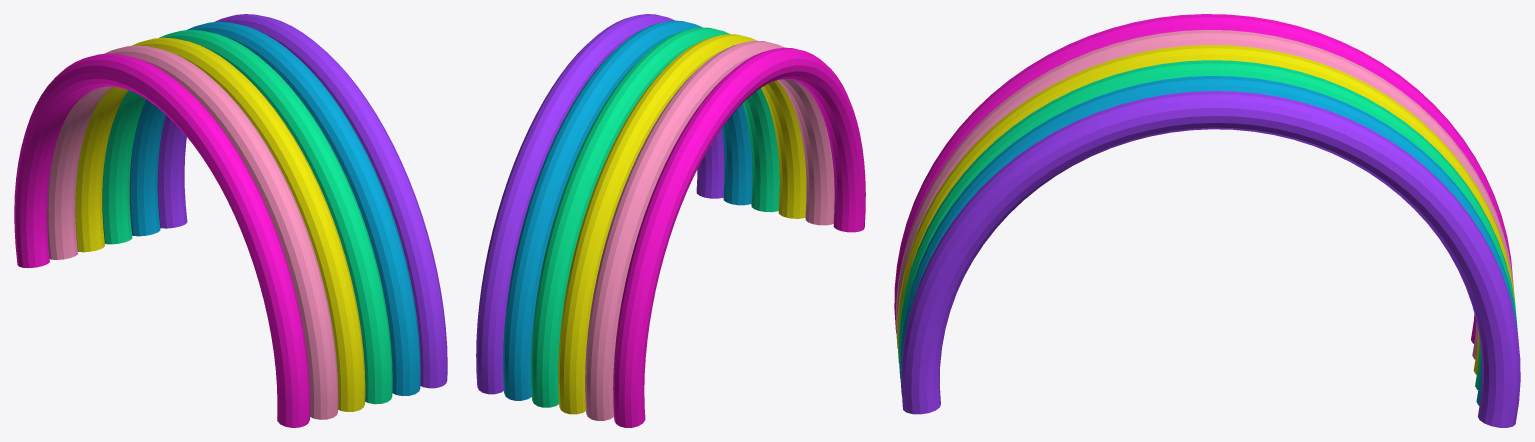
Rendered from HandRainbowy.gltf.
The picture shows the model from 3 angles, left to right: view 1: azimuth 30°, elevation 25°; view 2: azimuth 150°, elevation 25°; view 3: azimuth 270°, elevation 25°; orthographic projection. The views are drawn at different scales.
Visible parts, largest first — view 1: Torus, Torus 2, Torus 3, Torus 4, Torus 5, Torus 6; view 2: Torus, Torus 2, Torus 3, Torus 4, Torus 5, Torus 6; view 3: Torus 6, Torus, Torus 4, Torus 3, Torus 5, Torus 2.
Boxes of the visible parts, x1=… form: Torus: x1=14, y1=53, x2=309, y2=427; Torus 2: x1=47, y1=45, x2=338, y2=419; Torus 3: x1=75, y1=37, x2=365, y2=411; Torus 4: x1=102, y1=30, x2=392, y2=404; Torus 5: x1=129, y1=21, x2=420, y2=395; Torus 6: x1=157, y1=14, x2=447, y2=388; Torus: x1=613, y1=47, x2=865, y2=427; Torus 2: x1=585, y1=40, x2=834, y2=420; Torus 3: x1=558, y1=34, x2=806, y2=414; Torus 4: x1=531, y1=27, x2=779, y2=407; Torus 5: x1=503, y1=20, x2=752, y2=400; Torus 6: x1=476, y1=14, x2=724, y2=394; Torus 6: x1=901, y1=91, x2=1520, y2=427; Torus: x1=894, y1=14, x2=1512, y2=343; Torus 4: x1=898, y1=60, x2=1516, y2=389; Torus 3: x1=897, y1=45, x2=1515, y2=374; Torus 5: x1=900, y1=76, x2=1518, y2=405; Torus 2: x1=896, y1=29, x2=1513, y2=359.
Bounding box in the file's own units: 0.1101 × 0.1611 × 0.2726.
